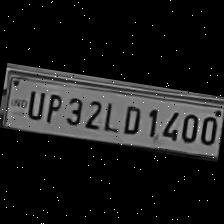0: (196, 110, 220, 146), (177, 108, 201, 142)
1: (139, 102, 161, 138)
2: (80, 94, 106, 130)
3: (60, 90, 85, 127)
4: (158, 104, 182, 142)
D: (116, 100, 145, 136)
L: (98, 96, 121, 132)
P: (40, 88, 64, 125)
U: (20, 84, 46, 120)
